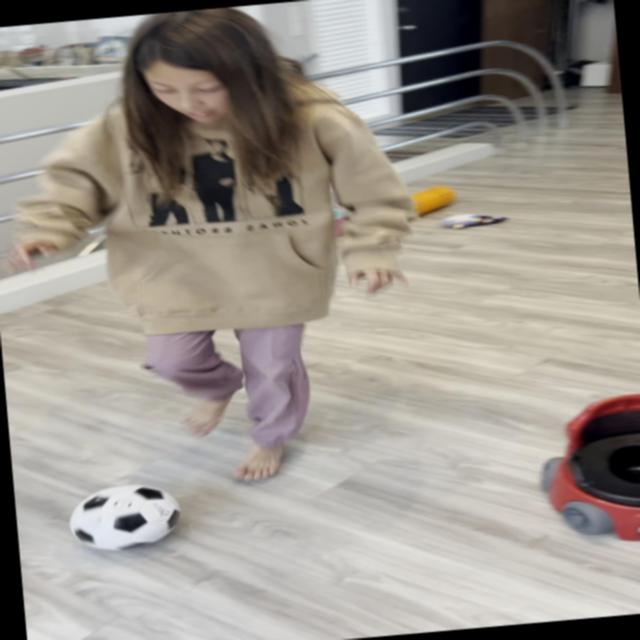Soccer Ball: (66, 480, 183, 556)
